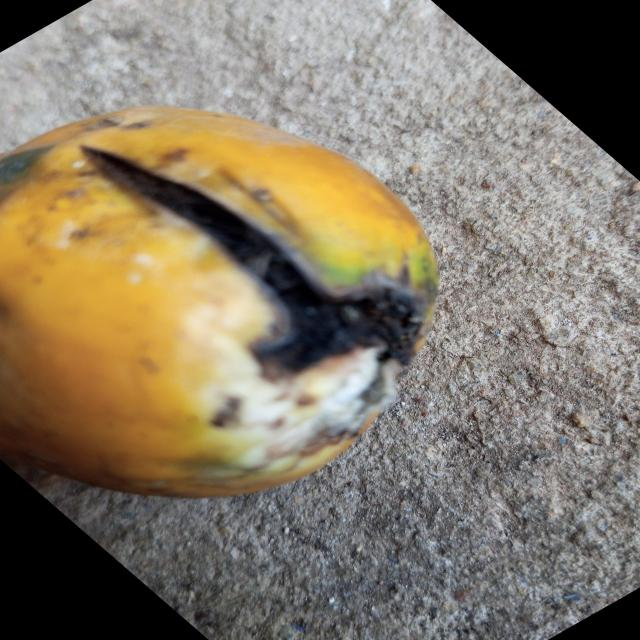damaged: (0, 105, 440, 502)
